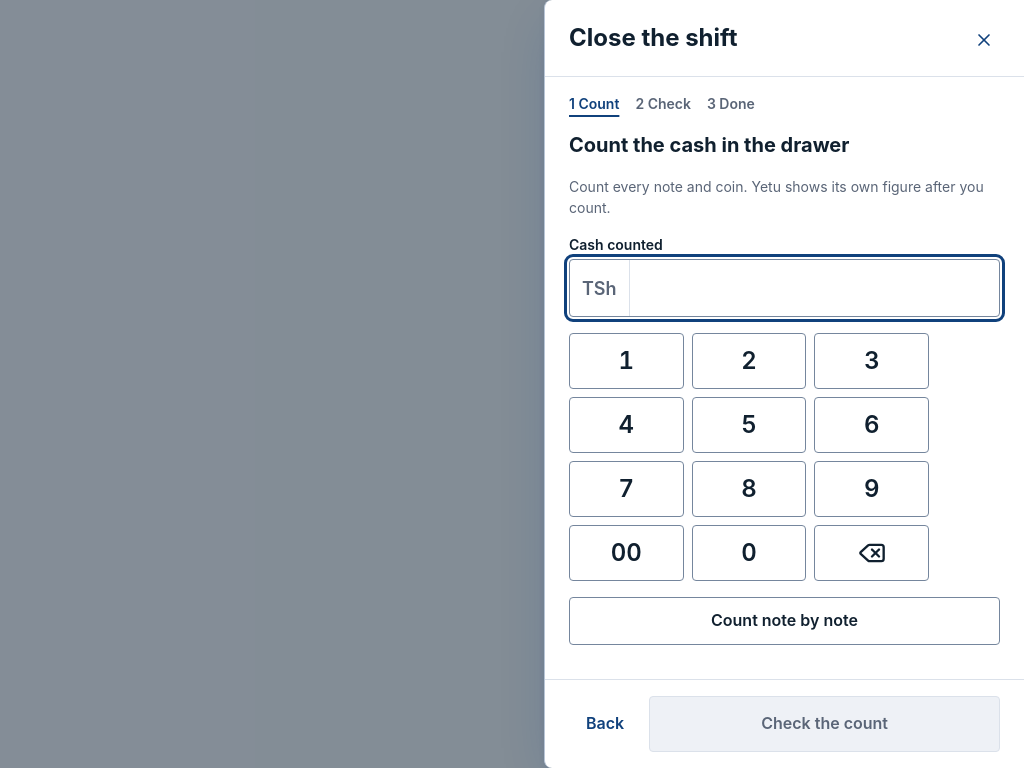
Test case: CloseShiftSheet: from Count to Check › announces Balanced, Over or Short from a live region that is there before the result
This screenshot has width=1024, height=768.
In the field with test id "counted-cash": (814, 288) [630,260,999,316], type "73500"
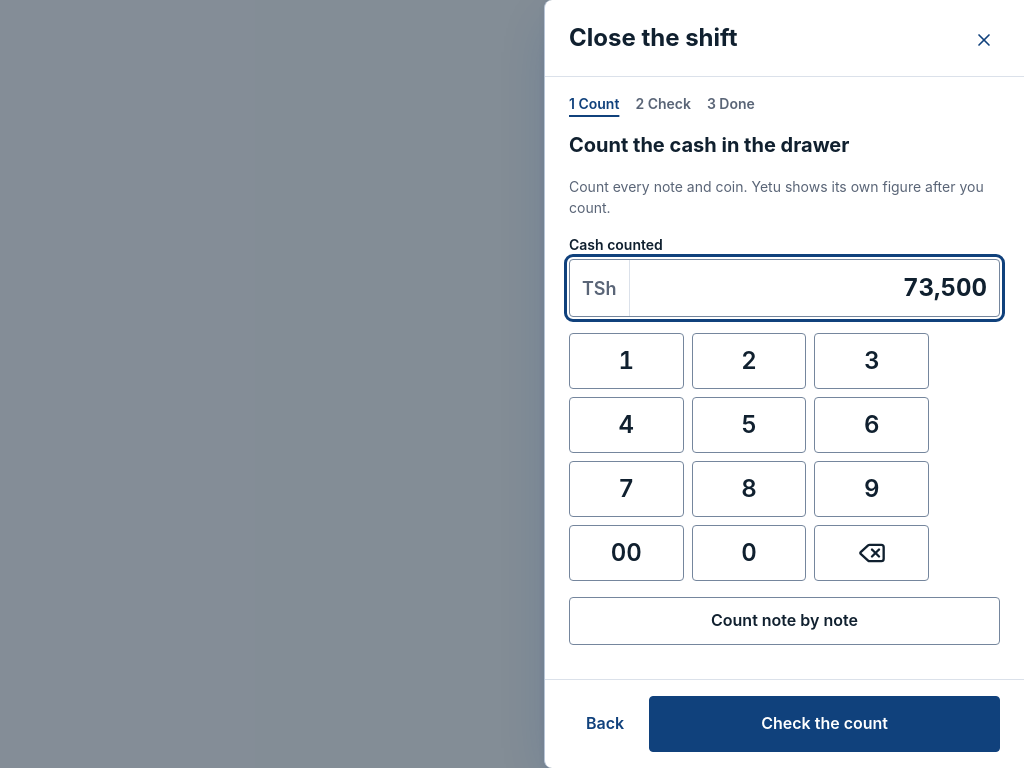
Click the button "Check the count": (825, 724) [649,696,1000,752]
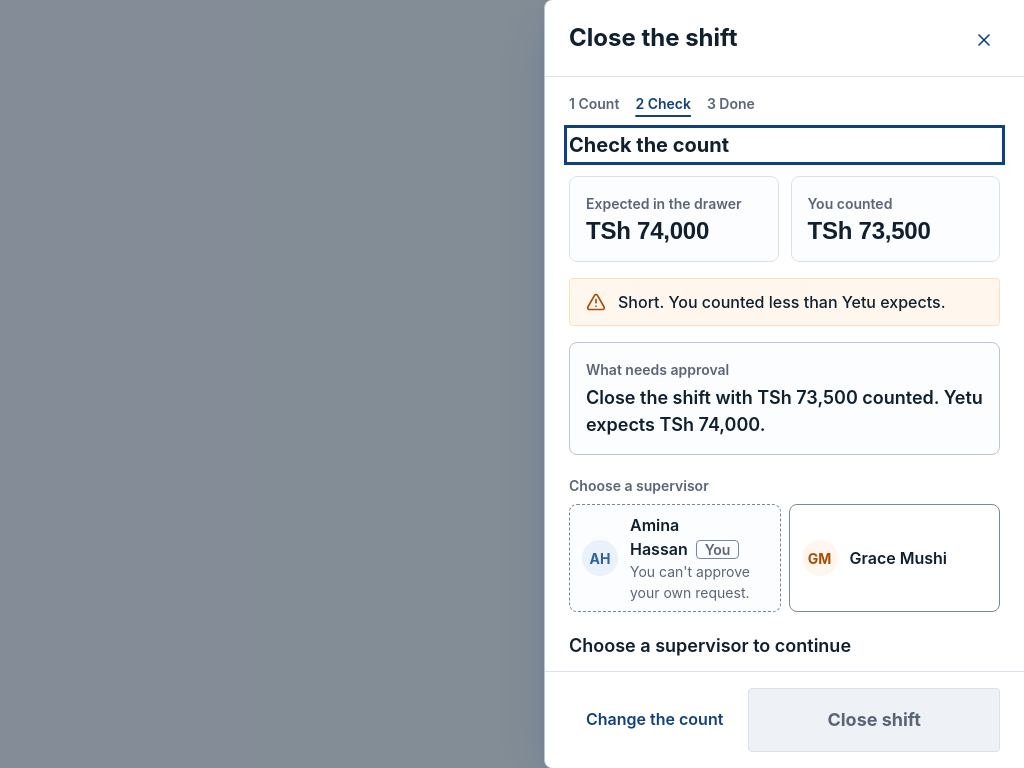
Expected: the message with test id "close-outcome" reads "Short. You counted less than Yetu expects.", [618,292,946,312]
